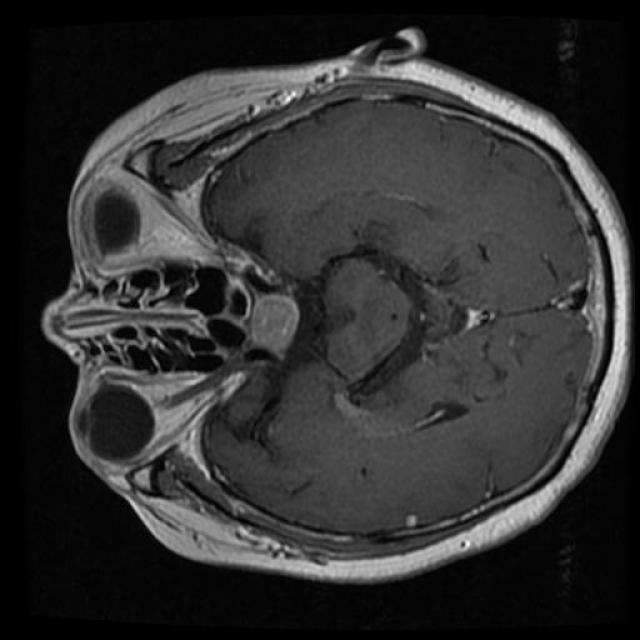Pituitary: (211, 243, 336, 426)
